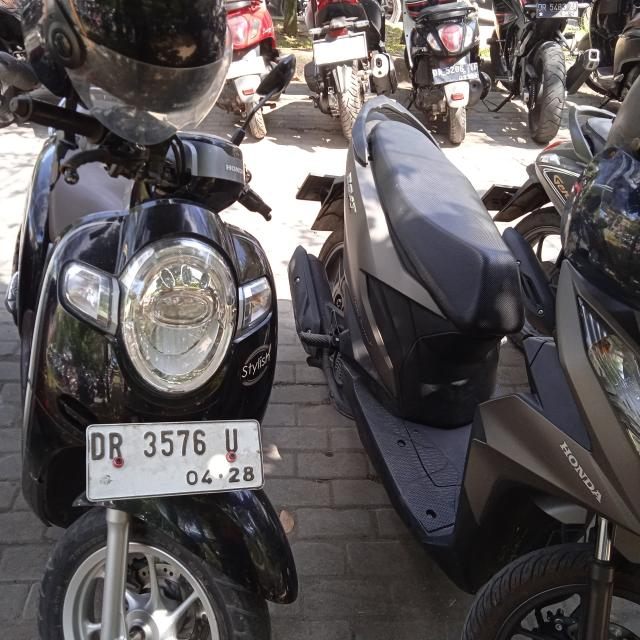plate: (82, 418, 267, 498), (430, 61, 480, 86), (535, 1, 579, 20)
